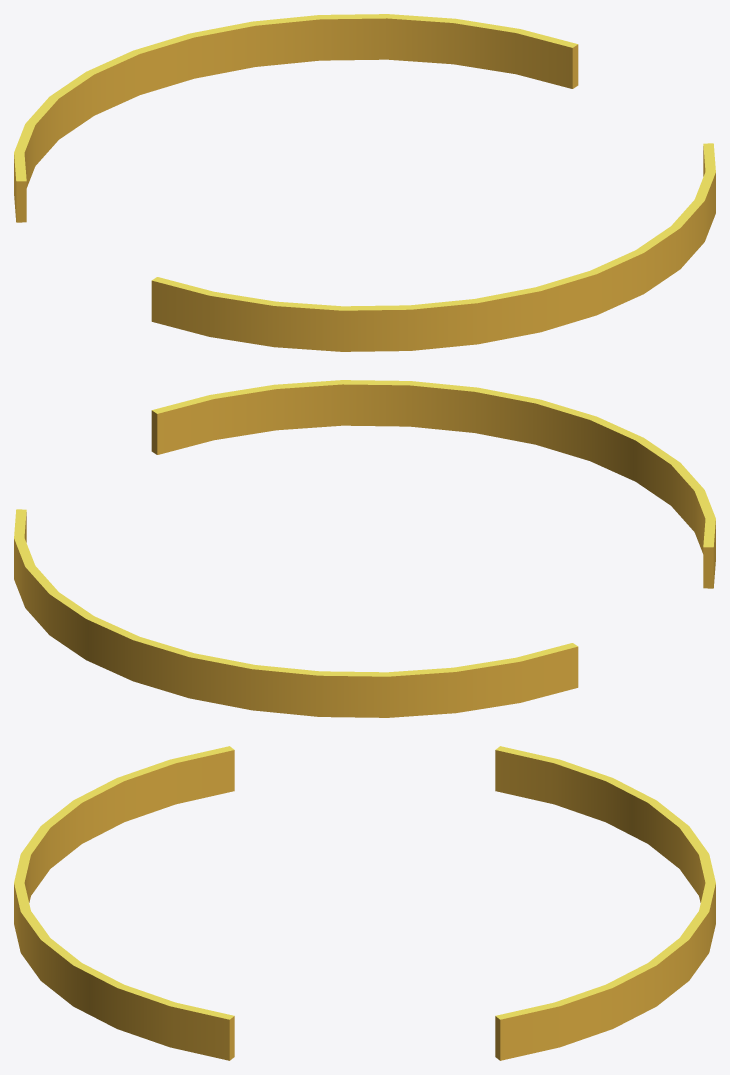
Rendered from battle_stage_24_wall.fbx.
The picture shows the model from 3 angles, top to bottom: view 1: azimuth 30°, elevation 25°; view 2: azimuth 150°, elevation 25°; view 3: azimuth 270°, elevation 25°; orthographic projection.
Visible parts, largest first — view 1: Cylinder.071; view 2: Cylinder.071; view 3: Cylinder.071.
Part boxes in pixels (x1,y1,x2,y2): Cylinder.071: (14, 14, 715, 351); Cylinder.071: (14, 380, 715, 717); Cylinder.071: (14, 746, 715, 1060).
Size of the model in its own units: 2853 by 200 by 3093.
